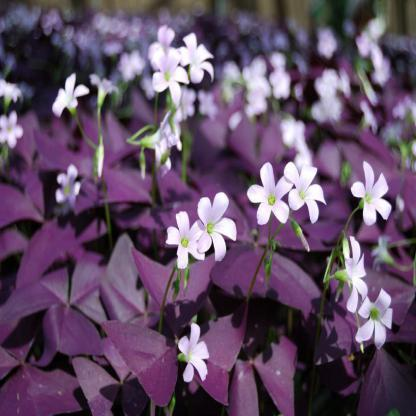Kupu-Kupu: (49, 91, 373, 360)
